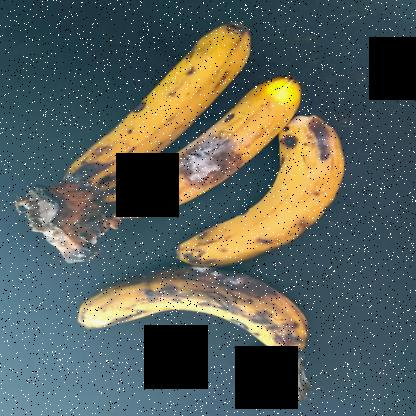overripe: (63, 22, 263, 186), (119, 72, 296, 221), (181, 112, 357, 260)
rotten: (61, 253, 332, 371)
